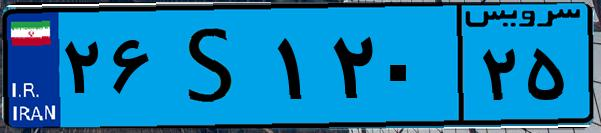0: (385, 28, 445, 110)
1: (270, 28, 330, 110)
2: (330, 28, 385, 110), (57, 26, 110, 100), (475, 38, 525, 113)
5: (525, 38, 570, 115)
6: (110, 28, 158, 98)
S: (158, 12, 270, 120)
